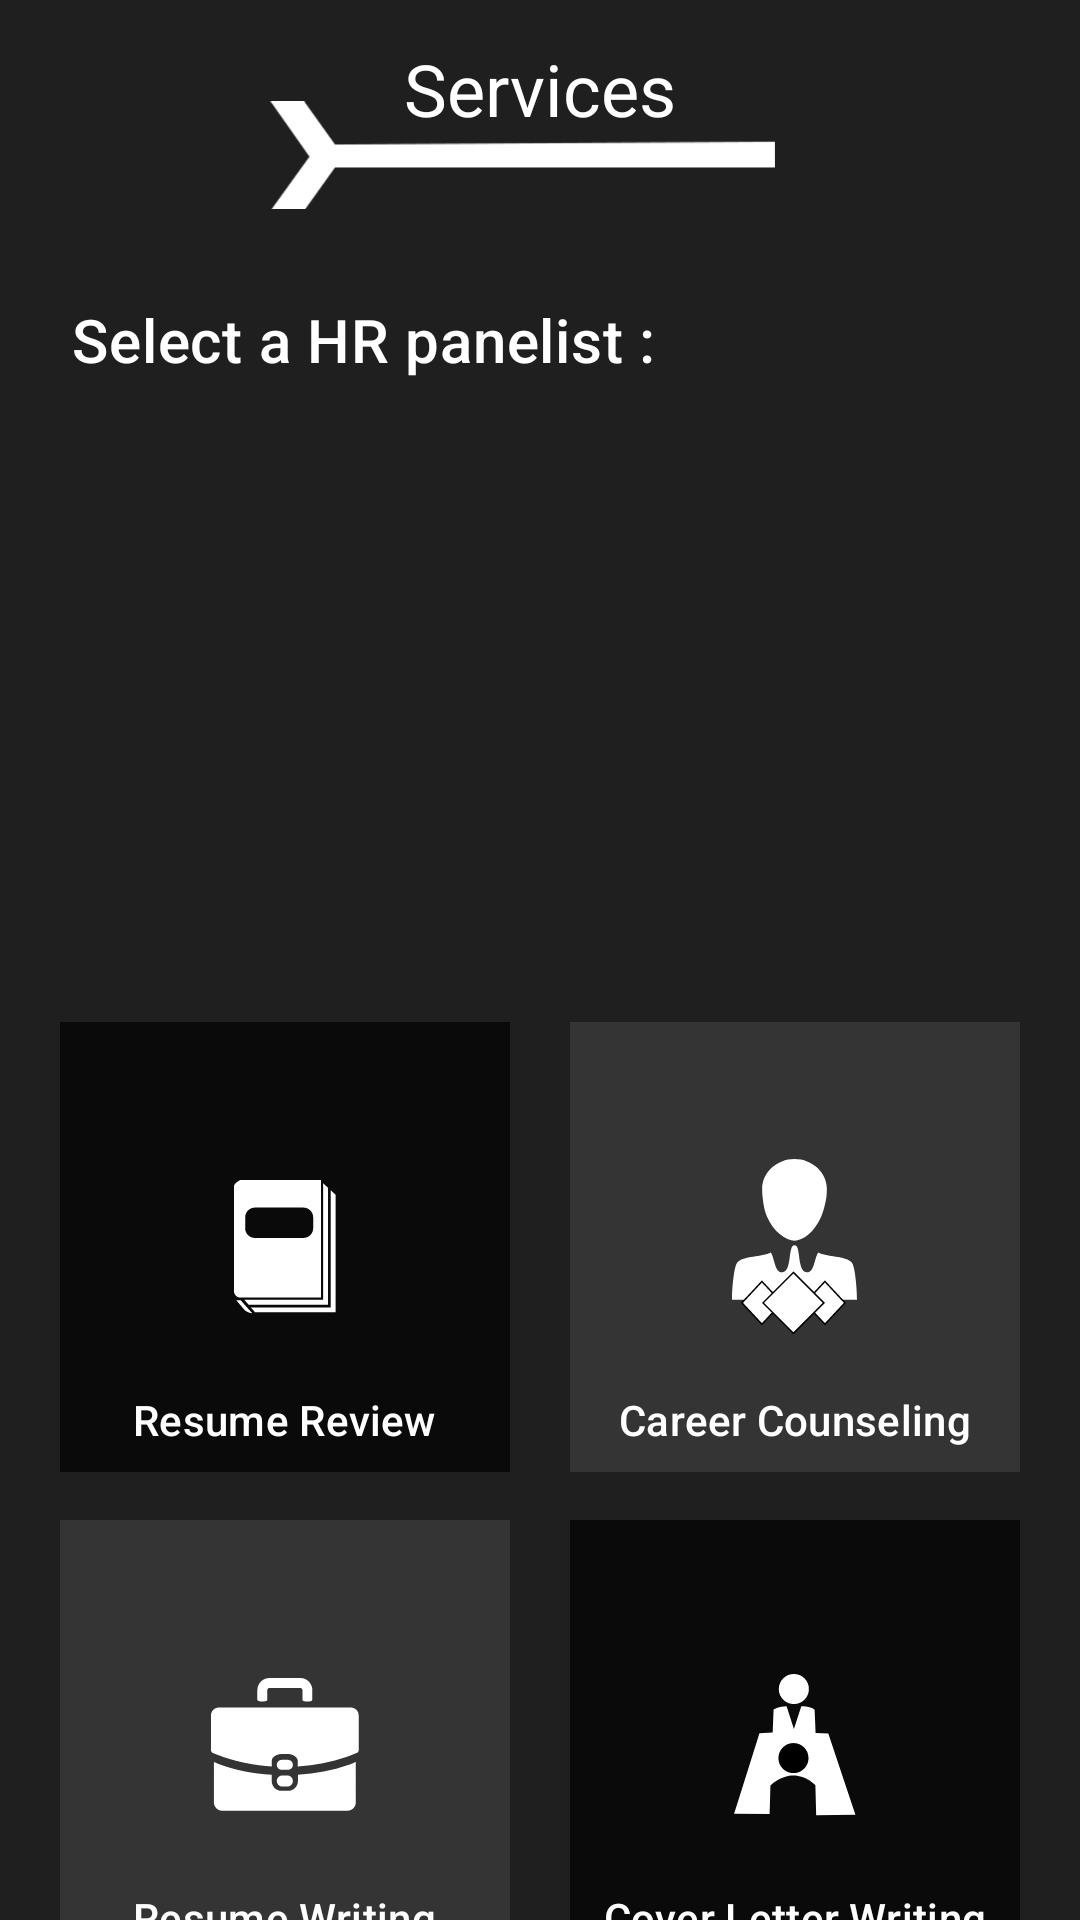

Icon click points for this 1080*1920 phone screenshot, format (x=x, y=y):
book: (x=285, y=1247)
profile: (x=794, y=1246)
